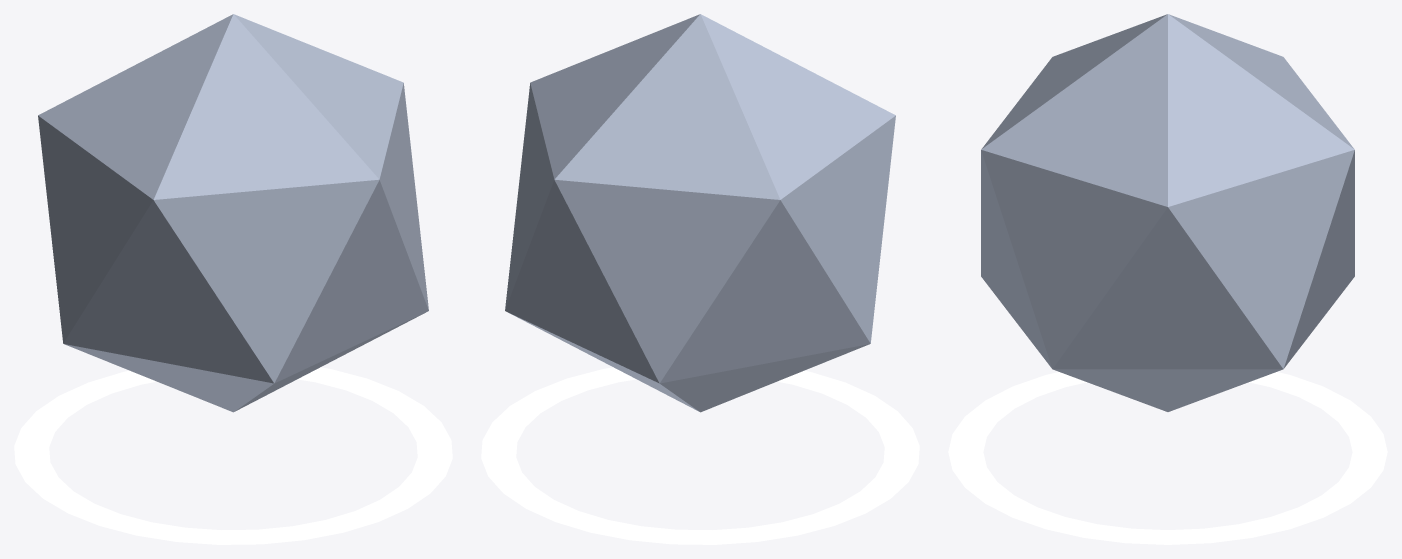
The picture shows the model from 3 angles, left to right: view 1: azimuth 30°, elevation 25°; view 2: azimuth 150°, elevation 25°; view 3: azimuth 270°, elevation 25°; orthographic projection.
Parts seen in each view (by area): view 1: emblem_frontera.lod0; view 2: emblem_frontera.lod0; view 3: emblem_frontera.lod0.
Part boxes in pixels (<box>): emblem_frontera.lod0: <box>14,14,452,544</box>; emblem_frontera.lod0: <box>481,14,919,544</box>; emblem_frontera.lod0: <box>948,14,1387,544</box>.
Bounding box in the file's own units: 1 × 1.1 × 1.
